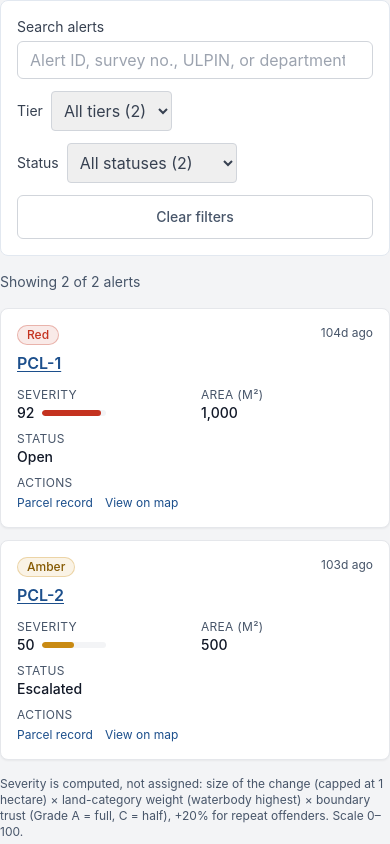
AlertsTable — mobile card presentation › filters the card list the same way it filters the table
Step 1. Type "PCL-2" into the search field labelled "Search alerts" → [195, 60], box [17,41,373,79]
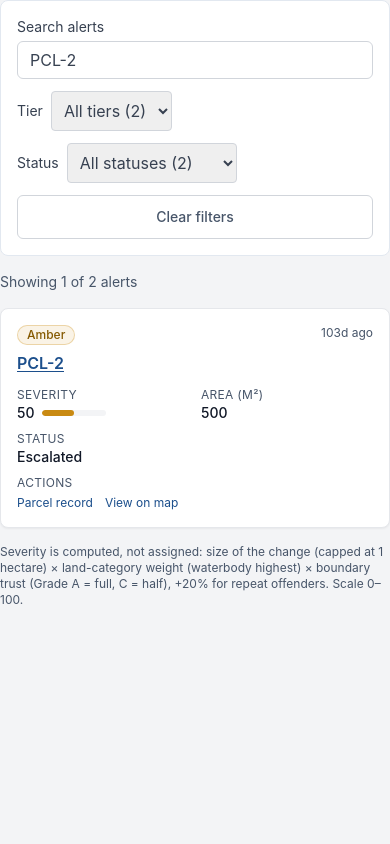
Check: the number of list items with test id "alert-card" is 1, box [0,308,389,528]
